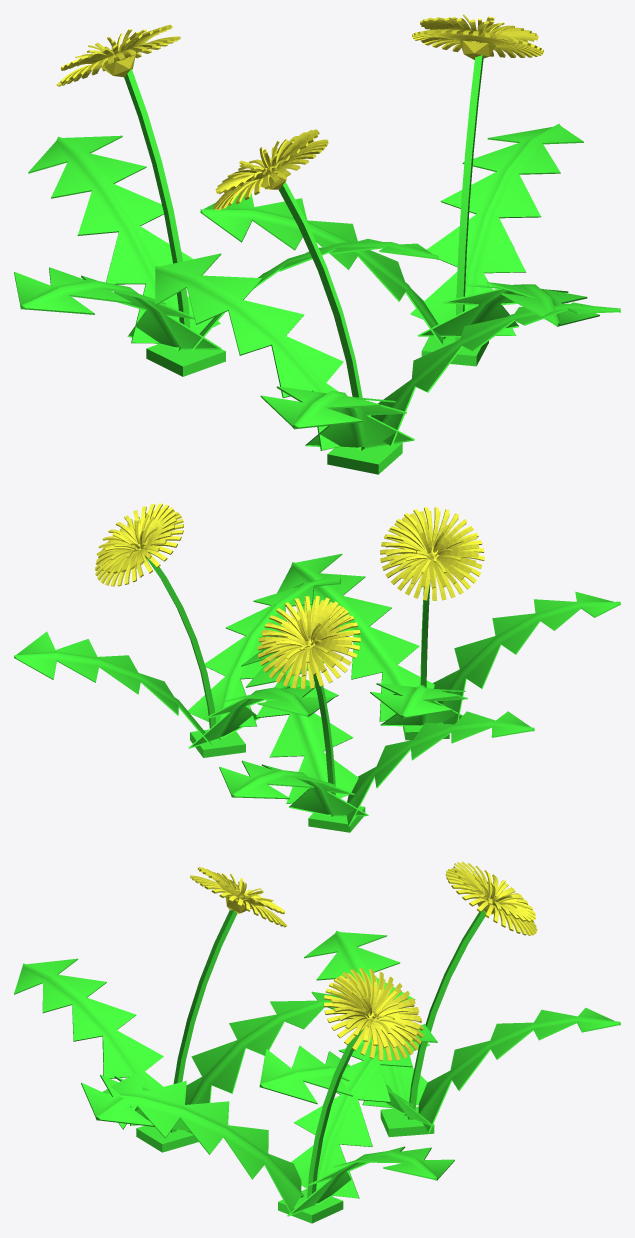
Rendered from dandgroup.fbx.
3 renders of one model, top to bottom at view 1: azimuth 30°, elevation 25°; view 2: azimuth 150°, elevation 25°; view 3: azimuth 270°, elevation 25°, orthographic. The views are drawn at different scales.
Visible parts, largest first — view 1: Object033; view 2: Object033; view 3: Object033.
Boxes of the visible parts, box(x1,y1,x2,y2) form: Object033: box(14, 14, 620, 474); Object033: box(14, 503, 620, 832); Object033: box(14, 861, 620, 1223).
Bounding box in the file's own units: 79.12 × 38.88 × 84.55.
